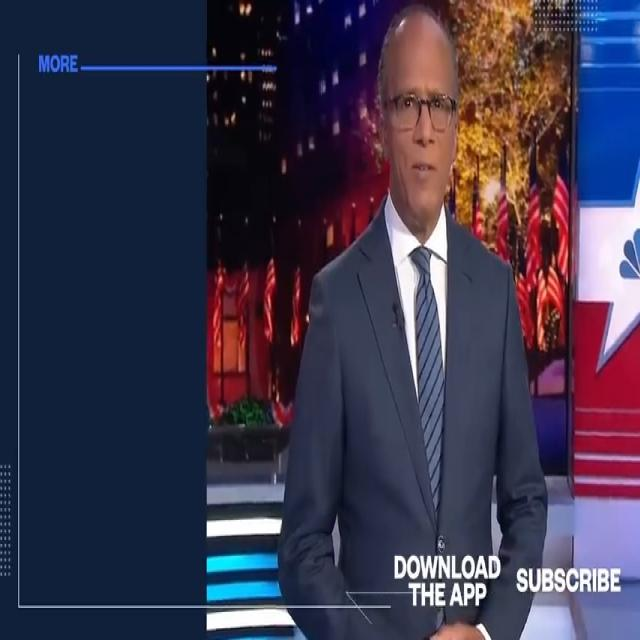non-fight: (274, 4, 549, 640)
